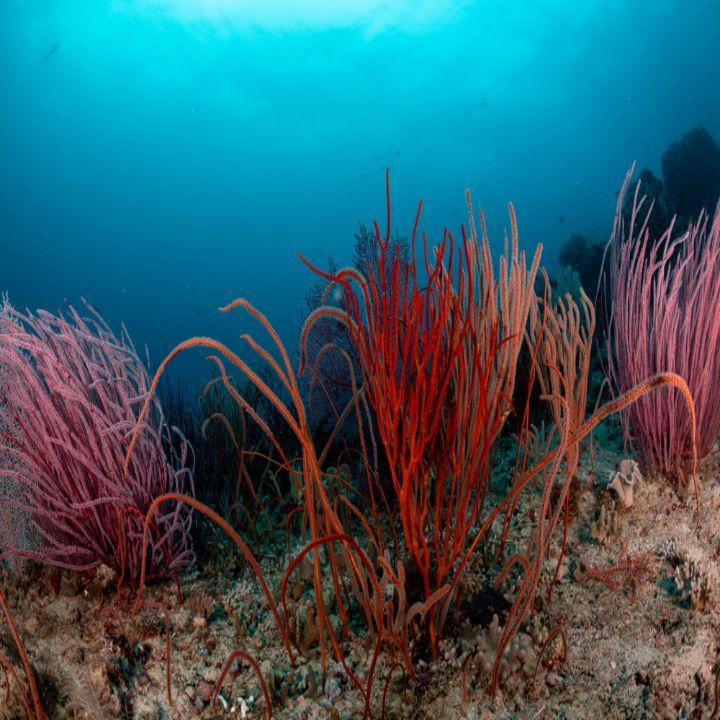Healthy Coral: (0, 269, 719, 577)
